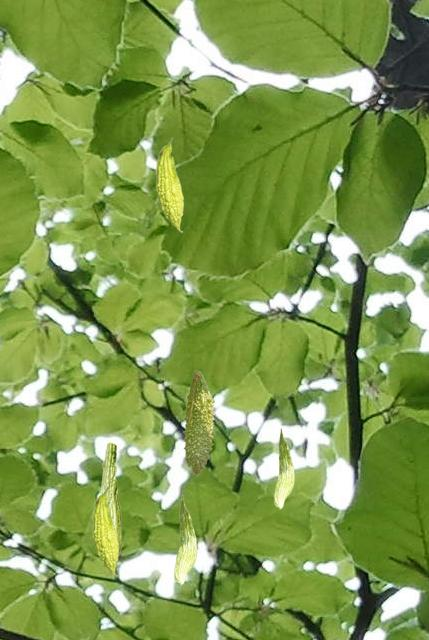ampalaya: (182, 369, 216, 475), (155, 137, 184, 233), (99, 441, 123, 556), (92, 486, 119, 577), (173, 494, 197, 586), (273, 427, 294, 510)
